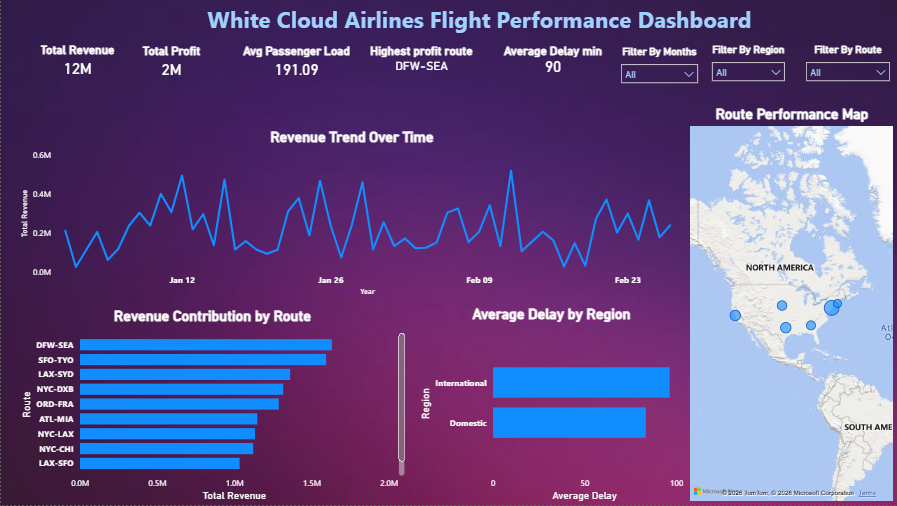

What the dashboard file says about the page in this screenshot:
{"tool":"powerbi","page":{"name":"Page 1","canvas":[1280,721],"ordinal":0},"visuals":[{"type":"card","title":"Total Revenue","fields":{"Values":["AirlinePerformance.Total Revenue"]},"box":[51.4,61.4,115.7,54.3],"z":0},{"type":"card","title":"Total Profit","fields":{"Values":["AirlinePerformance.Total Profit"]},"box":[192.9,62.9,101.4,52.9],"z":1000},{"type":"card","title":"Avg Passenger Load","fields":{"Values":["AirlinePerformance.Passenger Load"]},"box":[327.1,62.9,190,52.9],"z":2000},{"type":"card","title":"Average Delay min","fields":{"Values":["AirlinePerformance.Average Delay"]},"box":[701.4,62.9,174.3,45.7],"z":3000},{"type":"lineChart","title":"Revenue Trend Over Time","fields":{"Category":["AirlinePerformance.Date.Variation.Date Hierarchy.Year","AirlinePerformance.Date.Variation.Date Hierarchy.Quarter","AirlinePerformance.Date.Variation.Date Hierarchy.Month","AirlinePerformance.Date.Variation.Date Hierarchy.Day"],"Y":["AirlinePerformance.Total Revenue"]},"box":[22.9,184.3,957.1,242.9],"z":4000},{"type":"clusteredBarChart","title":"Average Delay by Region","fields":{"Category":["AirlinePerformance.Region"],"Y":["AirlinePerformance.Average Delay"]},"box":[592.9,437.1,387.1,284.3],"z":5000},{"type":"barChart","title":"Revenue Contribution by Route","fields":{"Category":["AirlinePerformance.Route"],"Y":["AirlinePerformance.Total Revenue"]},"box":[22.9,440,558.6,281.4],"z":6000},{"type":"textbox","box":[244.4,0,878.9,63.3],"z":7000},{"type":"map","title":"Route Performance Map","fields":{"Category":["AirlinePerformance.Origin City"],"Size":["AirlinePerformance.Total Revenue"]},"box":[980,151.4,300,570],"z":8000},{"type":"slicer","title":"Filter By Months","fields":{"Values":["AirlinePerformance.Month"]},"box":[875.7,65.7,130,52.9],"z":9000},{"type":"slicer","title":"Filter By Region","fields":{"Values":["AirlinePerformance.Region"]},"box":[1005.7,62.9,124.3,52.9],"z":10000},{"type":"slicer","title":"Filter By Route","fields":{"Values":["AirlinePerformance.Route"]},"box":[1140,62.9,140,55.7],"z":11000},{"type":"card","title":"Highest profit route","fields":{"Values":["AirlinePerformance.Top Route"]},"box":[517.1,62.9,167.1,45.7],"z":12000},{"type":"textbox","box":[22.9,117.1,570,52.9],"z":13000}]}

Visuals, with their boxes in screenshot pixels (x1, y1, x2, y2), scaled from the page's 1280x721 canvas onto the 897x506 screenshot:
"Total Revenue" card: (36,43,117,81)
"Total Profit" card: (135,44,206,81)
"Avg Passenger Load" card: (229,44,362,81)
"Average Delay min" card: (492,44,614,76)
"Revenue Trend Over Time" lineChart: (16,129,687,300)
"Average Delay by Region" clusteredBarChart: (415,307,687,505)
"Revenue Contribution by Route" barChart: (16,309,408,505)
textbox: (171,0,787,44)
"Route Performance Map" map: (687,106,896,505)
"Filter By Months" slicer: (614,46,705,83)
"Filter By Region" slicer: (705,44,792,81)
"Filter By Route" slicer: (799,44,896,83)
"Highest profit route" card: (362,44,479,76)
textbox: (16,82,415,119)
